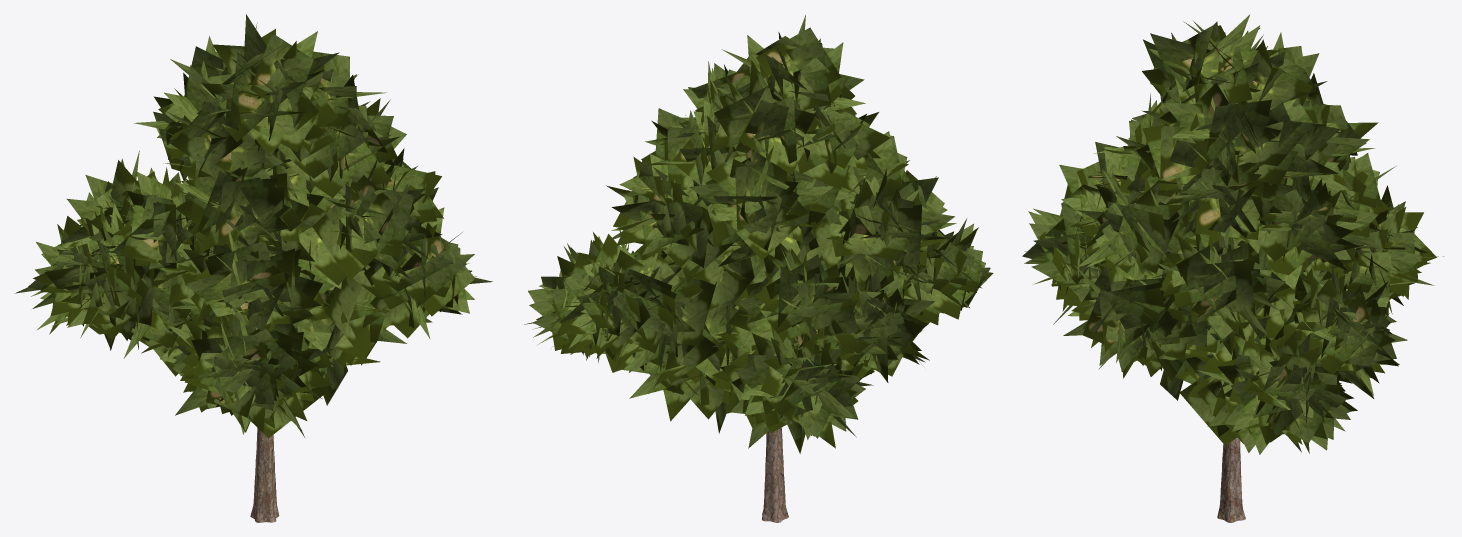
The model's file is PineTree.obj.
3 renders of one model, left to right at view 1: azimuth 30°, elevation 25°; view 2: azimuth 150°, elevation 25°; view 3: azimuth 270°, elevation 25°, orthographic. The views are drawn at different scales.
Visible parts, largest first — view 1: branch05, bark02; view 2: branch05, bark02; view 3: branch05, bark02.
Boxes of the visible parts, box(x1,y1,x2,y2) form: branch05: box(14, 14, 492, 438); bark02: box(250, 428, 279, 522); branch05: box(524, 15, 993, 453); bark02: box(762, 427, 788, 522); branch05: box(1022, 15, 1444, 454); bark02: box(1217, 437, 1245, 522).
Size of the model in its own units: 252 by 299 by 232.
Materials: 2 (2 with a texture image).
